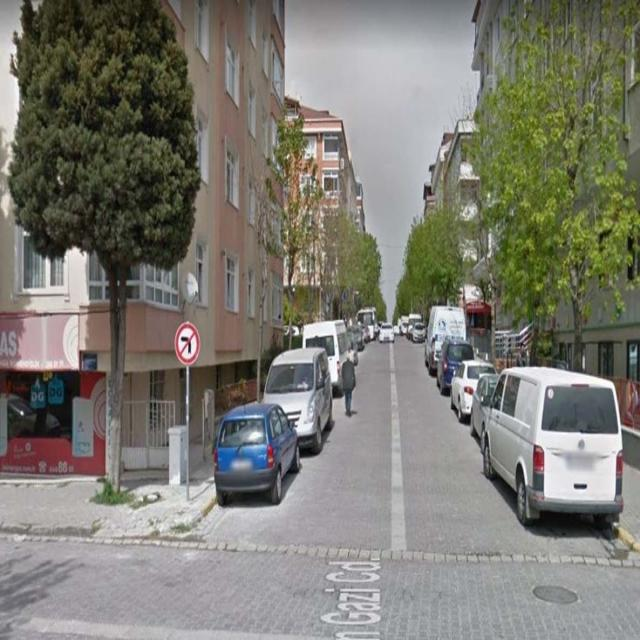soladonulmez: (175, 322, 200, 364)
